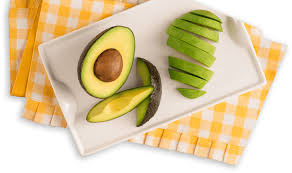aguacate: (71, 17, 139, 100)
